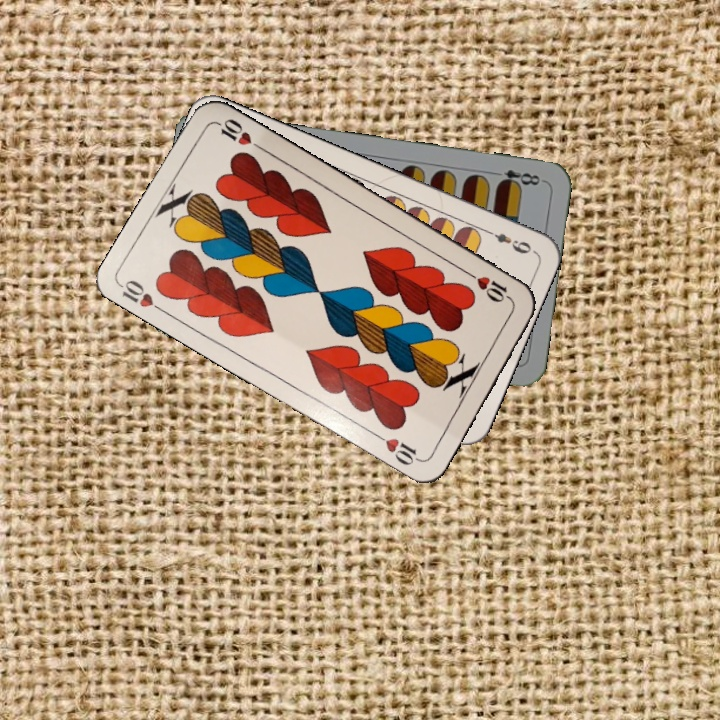E8: (487, 165, 546, 191)
E9: (480, 225, 534, 257)
H10: (117, 275, 171, 317), (463, 268, 516, 306)
